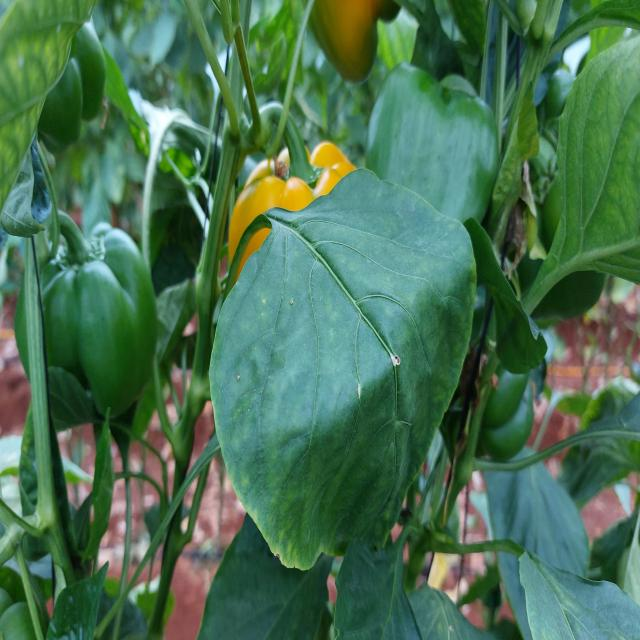Green--Not-ready-to-harvest: (26, 250, 158, 422), (39, 10, 103, 156)
GreenishYellow--Can-be-Harvested: (303, 1, 403, 92)
Yellow-Ready-to-Harvest: (230, 138, 358, 284)
